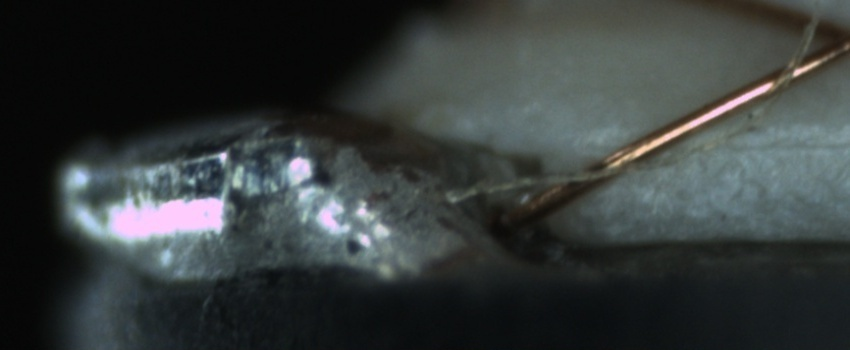CL: (794, 3, 850, 68)
DL: (690, 110, 850, 177)
